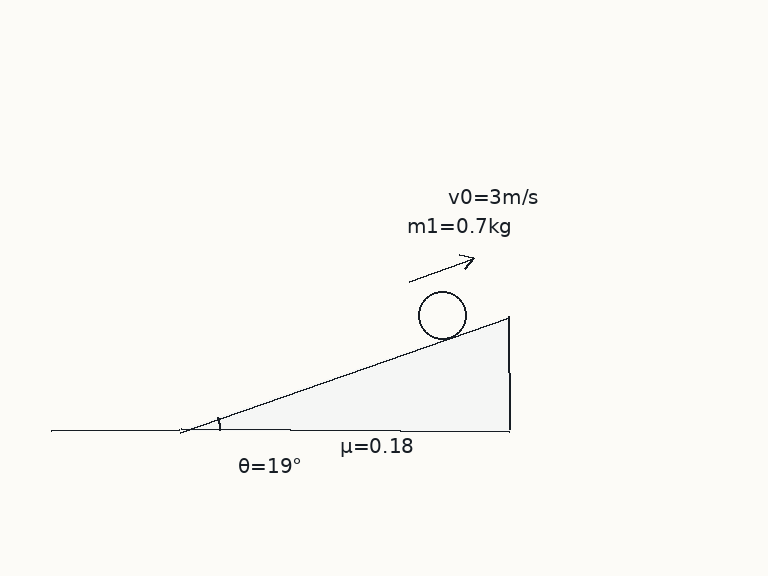ball: (416, 289, 468, 341)
ramp: (178, 315, 511, 432)
